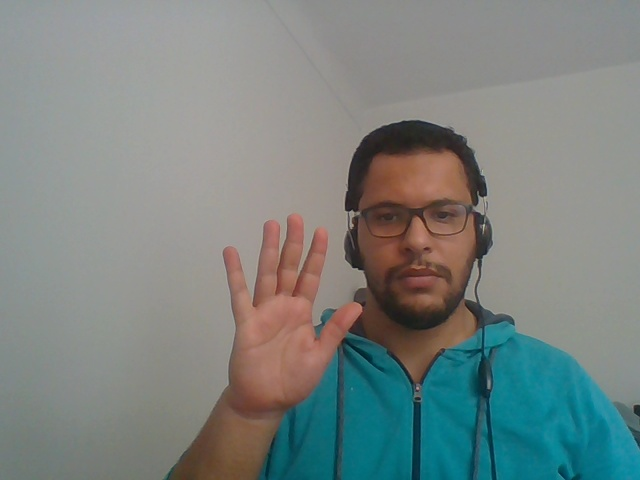hello: (193, 198, 372, 448)
